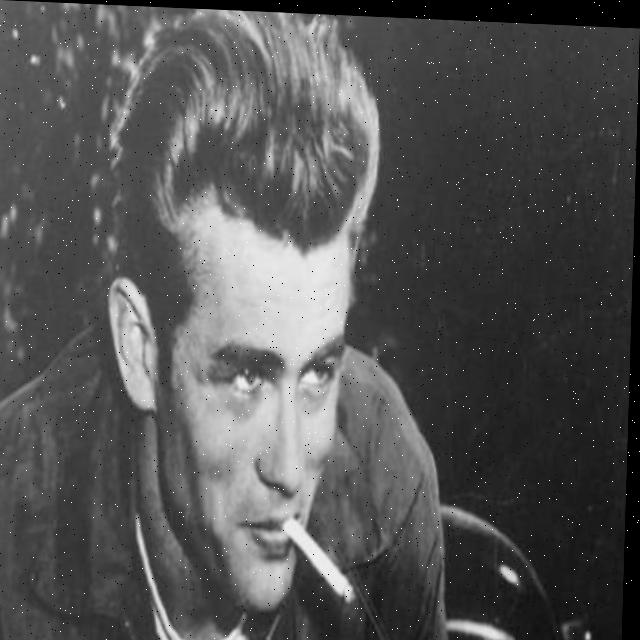cigarette: (284, 513, 361, 606)
